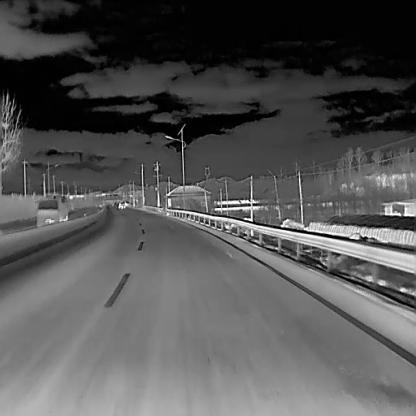car: (34, 194, 69, 228), (117, 199, 125, 208), (124, 200, 130, 207)
